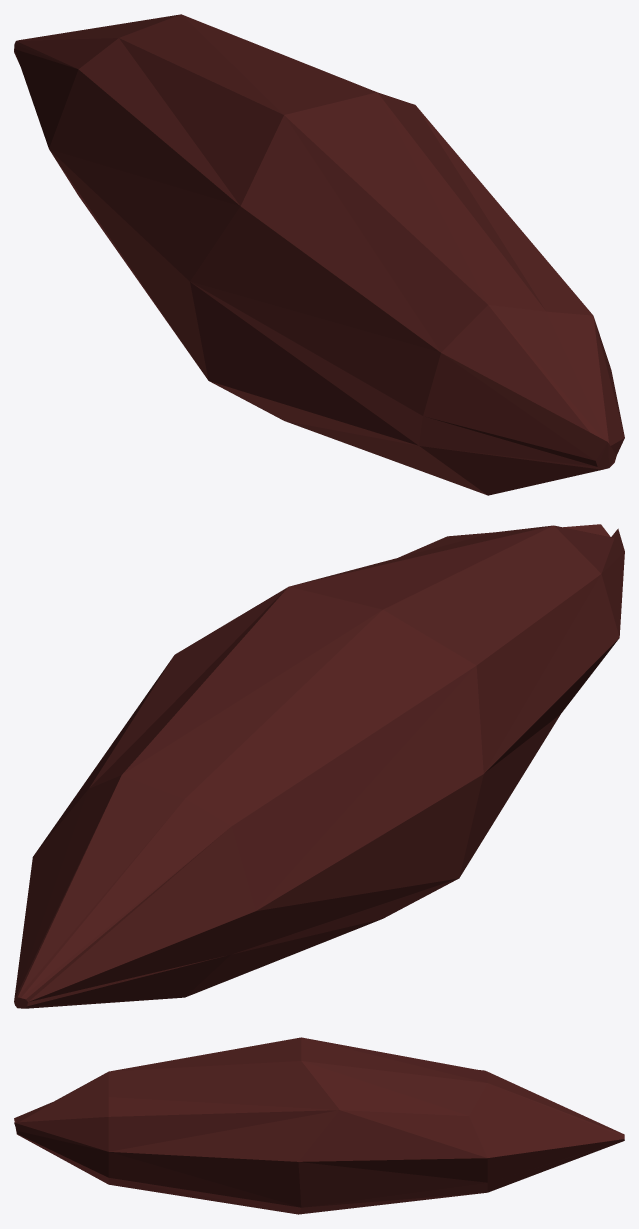
File: SweetPotato4.fbx
The picture shows the model from 3 angles, top to bottom: view 1: azimuth 30°, elevation 25°; view 2: azimuth 150°, elevation 25°; view 3: azimuth 270°, elevation 25°; orthographic projection. The views are drawn at different scales.
Visible parts, largest first — view 1: Cylinder.003; view 2: Cylinder.003; view 3: Cylinder.003.
Boxes of the visible parts, <box> form: Cylinder.003: <box>14,14,624,495</box>; Cylinder.003: <box>14,524,624,1008</box>; Cylinder.003: <box>14,1037,624,1214</box>.
Size of the model in its own units: 35.01 by 33.87 by 119.
